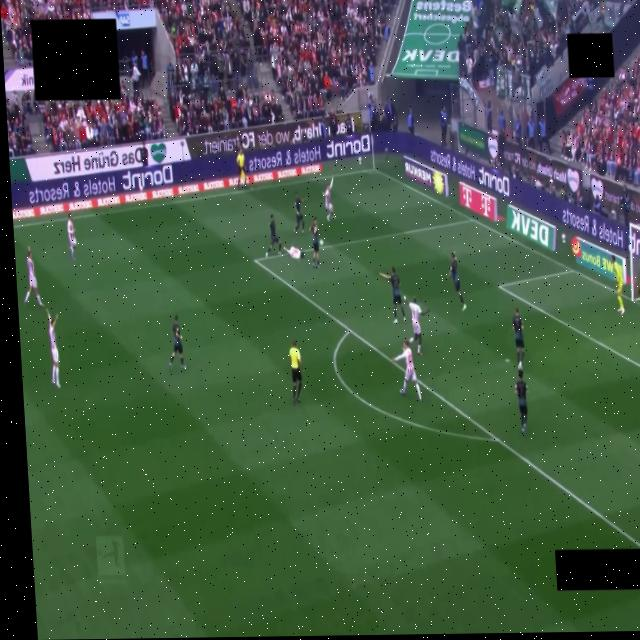ball: (320, 240, 323, 245)
player: (392, 341, 421, 401), (380, 266, 405, 323), (408, 298, 429, 354), (447, 252, 466, 310), (45, 311, 59, 387), (24, 248, 42, 306), (169, 315, 185, 369), (514, 369, 527, 432), (611, 255, 624, 314), (511, 308, 523, 370), (265, 214, 281, 256), (66, 213, 76, 260), (323, 178, 334, 220), (309, 218, 318, 268), (294, 193, 304, 233), (284, 247, 303, 259)
referee: (289, 340, 301, 403)
